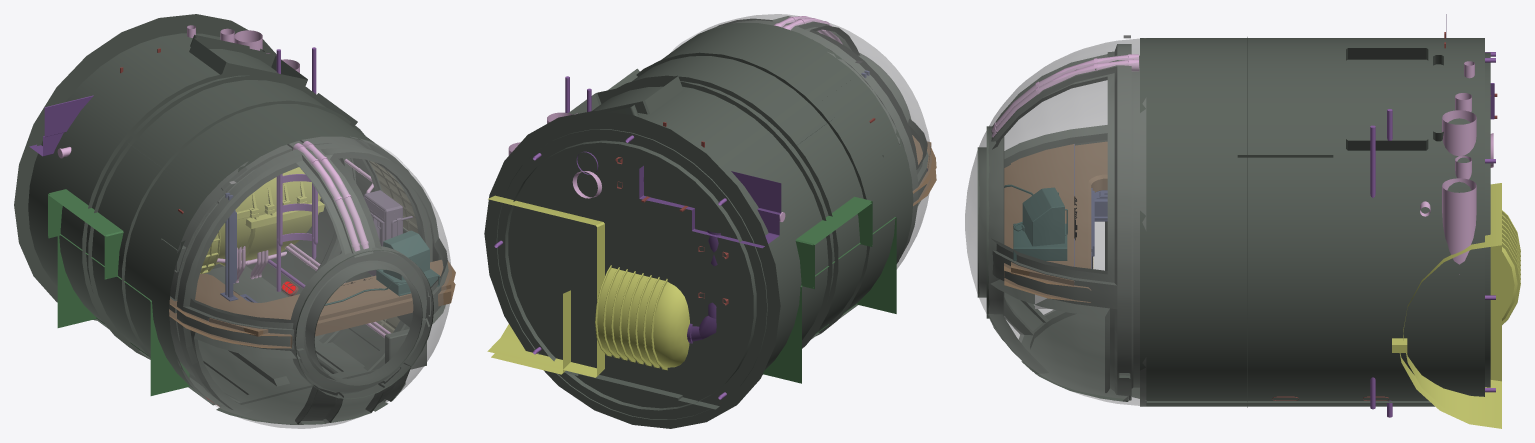
Rendered from Submarine.fbx.
3 views of the same model, side by side, from view 1: azimuth 30°, elevation 25°; view 2: azimuth 150°, elevation 25°; view 3: azimuth 270°, elevation 25° (orthographic). The views are drawn at different scales.
Parts seen in each view (by area): view 1: SubBody; view 2: SubBody; view 3: SubBody.
Part boxes in pixels (x1,y1,x2,y2): SubBody: [14, 14, 455, 428]; SubBody: [484, 14, 936, 428]; SubBody: [965, 14, 1520, 428].
Bounding box in the file's own units: 274 × 274 × 377.
